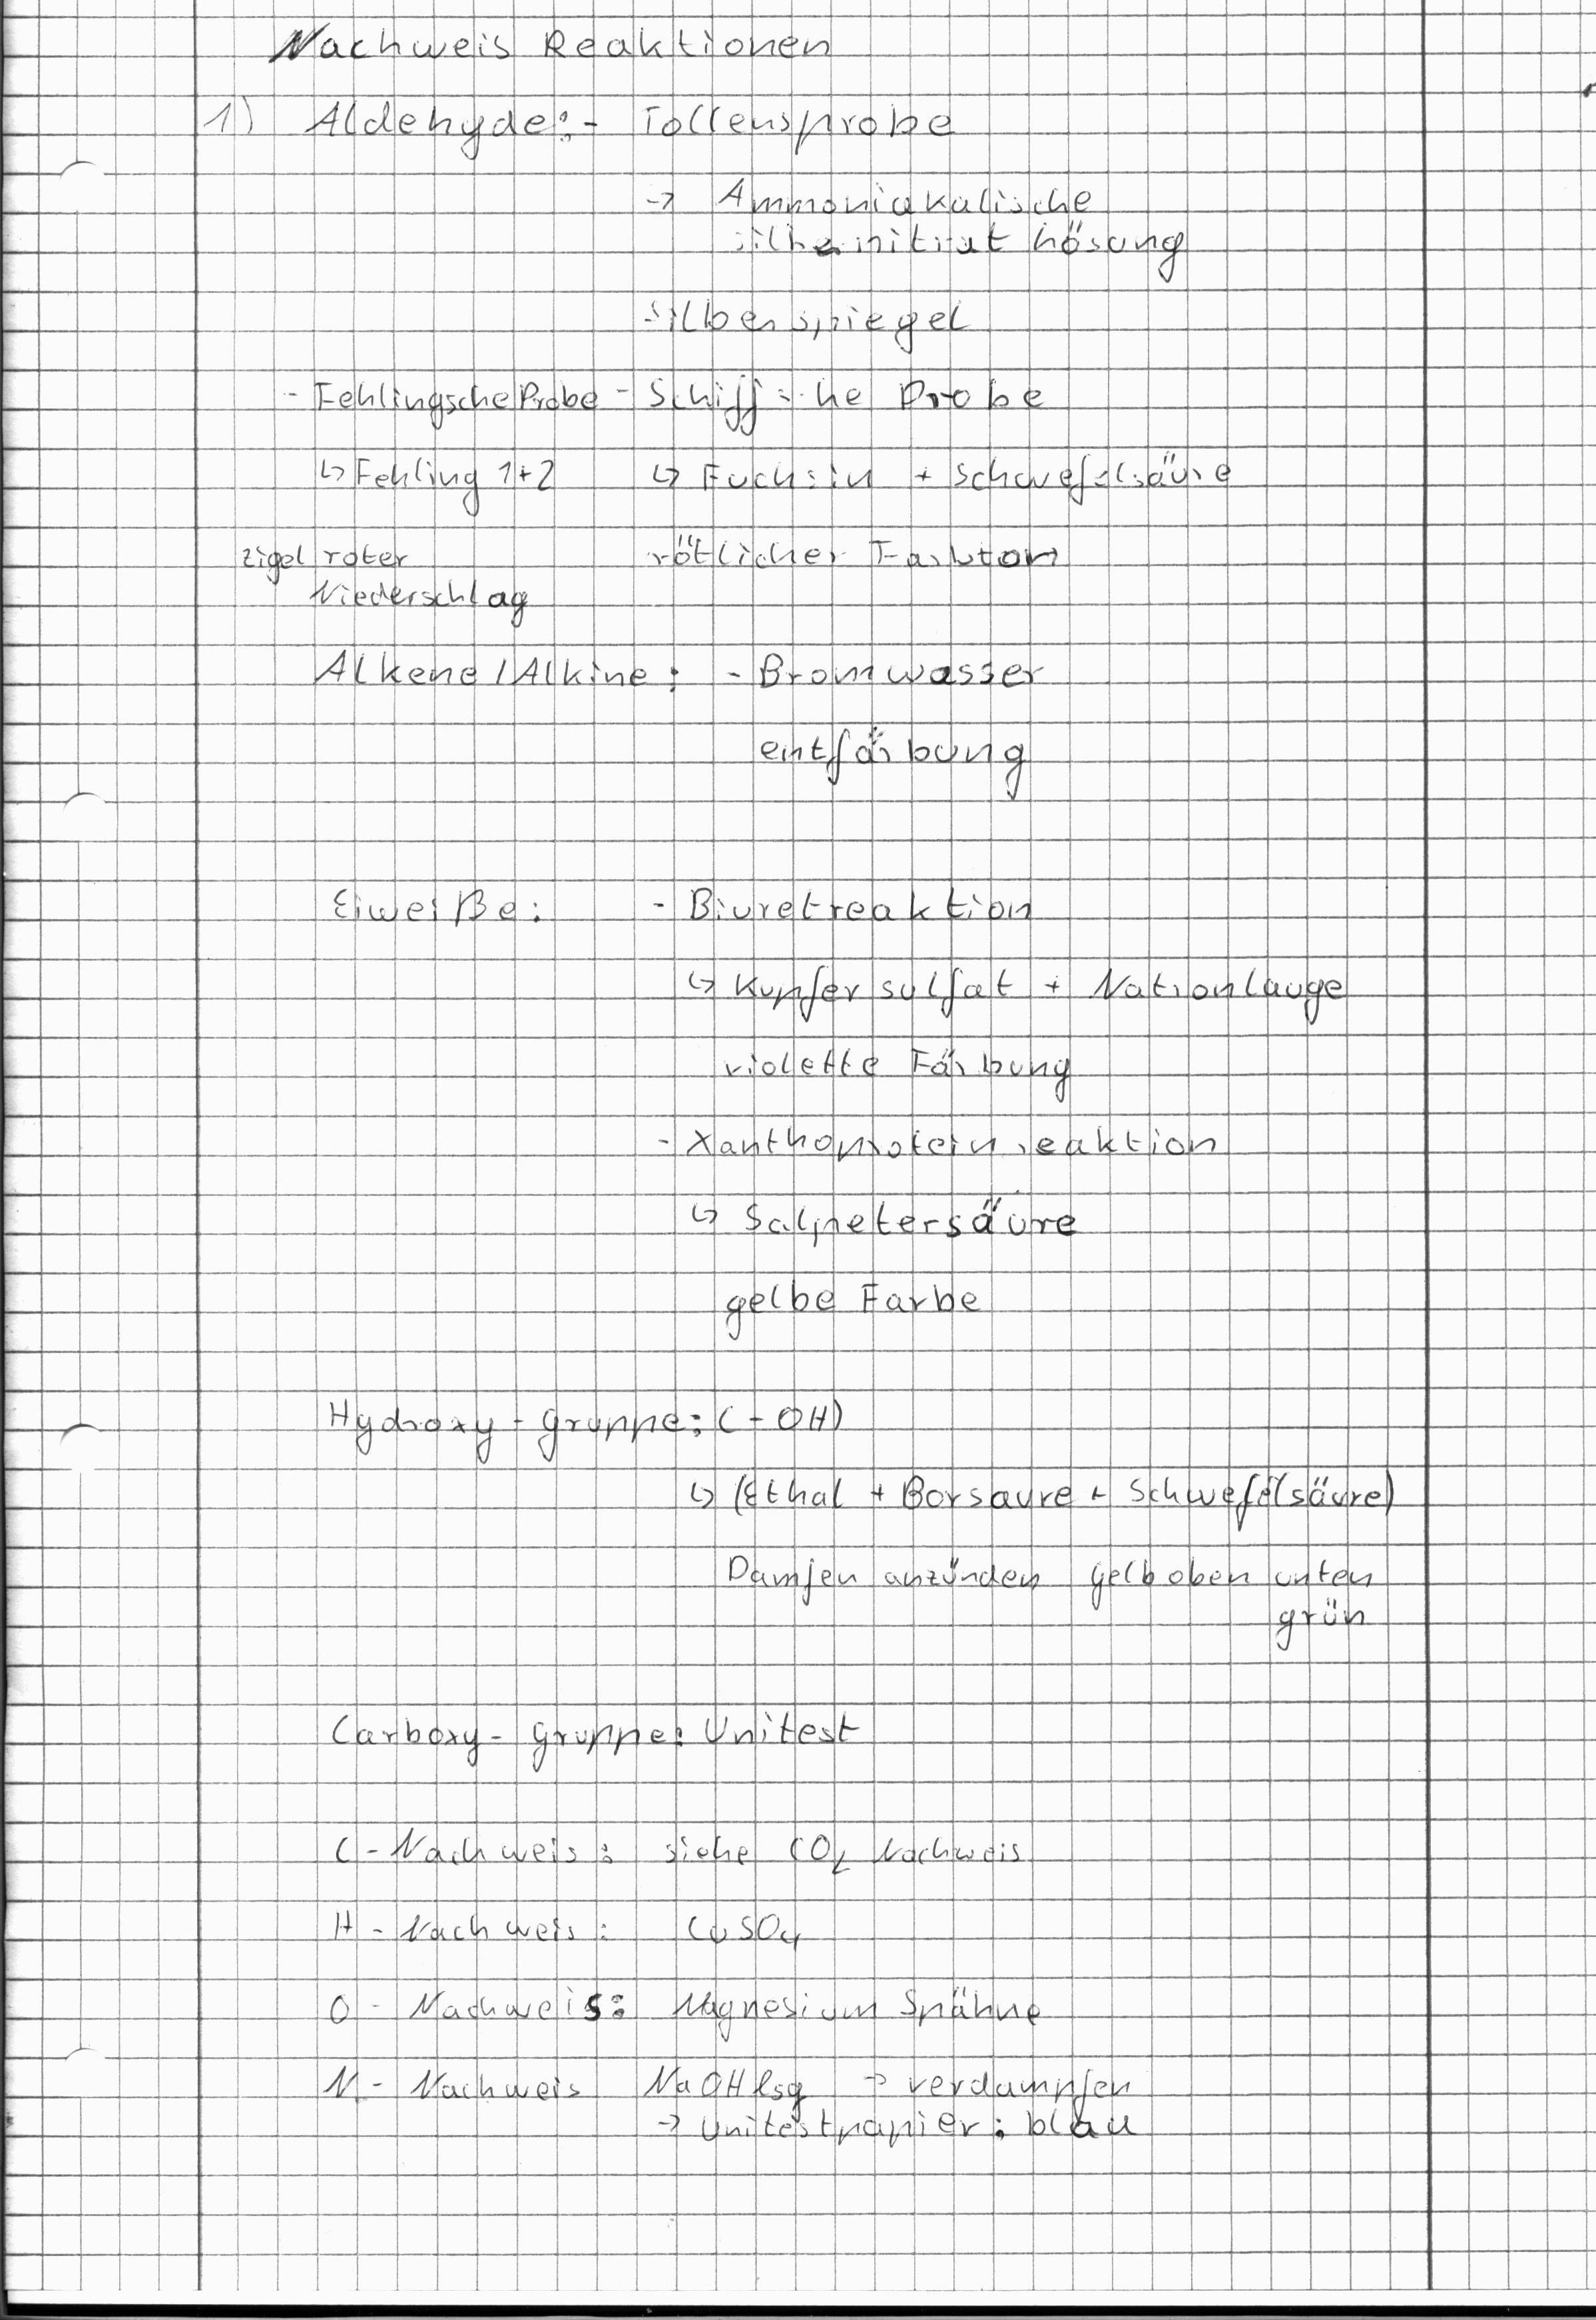word: (647, 872, 1356, 1347), (315, 1816, 1155, 2158), (631, 89, 1200, 364), (684, 1464, 1406, 1659), (610, 370, 1244, 580), (717, 636, 1047, 808), (268, 362, 607, 523), (314, 1687, 862, 1781), (314, 1390, 859, 1476), (258, 10, 846, 77), (194, 79, 605, 172), (224, 518, 539, 633), (298, 637, 694, 725), (322, 870, 560, 948)
